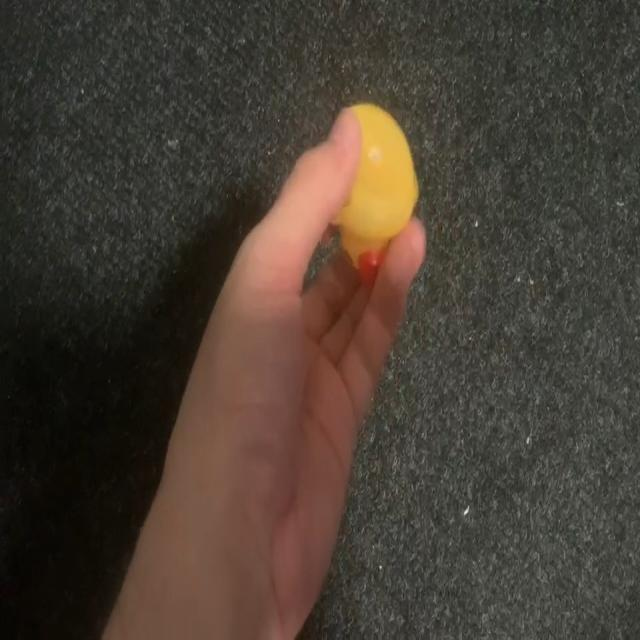rubber-duck: (335, 103, 416, 284)
